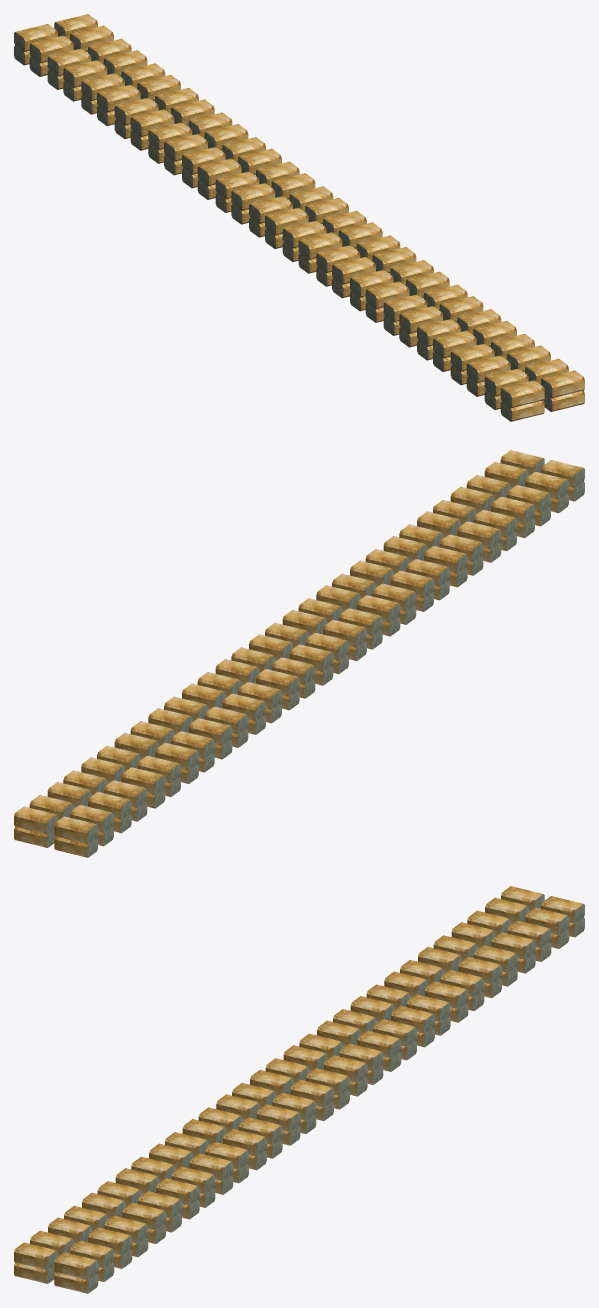
Rendered from jiushengyi.FBX.
The picture shows the model from 3 angles, top to bottom: view 1: azimuth 30°, elevation 25°; view 2: azimuth 150°, elevation 25°; view 3: azimuth 330°, elevation 25°; orthographic projection.
Parts seen in each view (by area): view 1: 对象17, 对象18; view 2: 对象17, 对象18; view 3: 对象18, 对象17.
Part boxes in pixels (x1,y1,x2,y2): 对象17: (14, 24, 544, 421); 对象18: (54, 14, 584, 411); 对象17: (54, 460, 584, 857); 对象18: (14, 450, 544, 847); 对象18: (54, 896, 584, 1293); 对象17: (14, 886, 544, 1283).
Size of the model in its own units: 2.15 by 25.37 by 0.7638.
